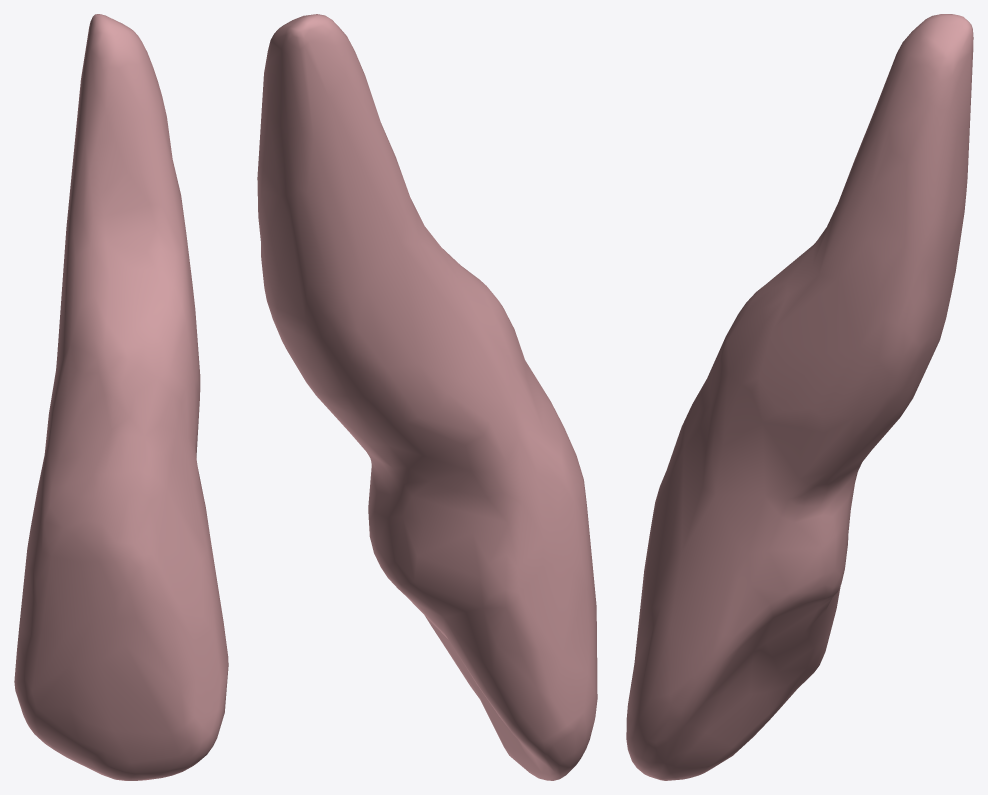
File: fma55680_fj1280.glb
3 views of the same model, side by side, from view 1: azimuth 30°, elevation 25°; view 2: azimuth 150°, elevation 25°; view 3: azimuth 270°, elevation 25° (orthographic). The views are drawn at different scales.
Visible parts, largest first — view 1: FMA55680_FJ1280; view 2: FMA55680_FJ1280; view 3: FMA55680_FJ1280.
Boxes of the visible parts, bbox=[...] form: FMA55680_FJ1280: bbox=[14, 14, 228, 780]; FMA55680_FJ1280: bbox=[257, 14, 597, 780]; FMA55680_FJ1280: bbox=[626, 14, 973, 780].
Size of the model in its own units: 0.00957 by 0.0289 by 0.0113.
